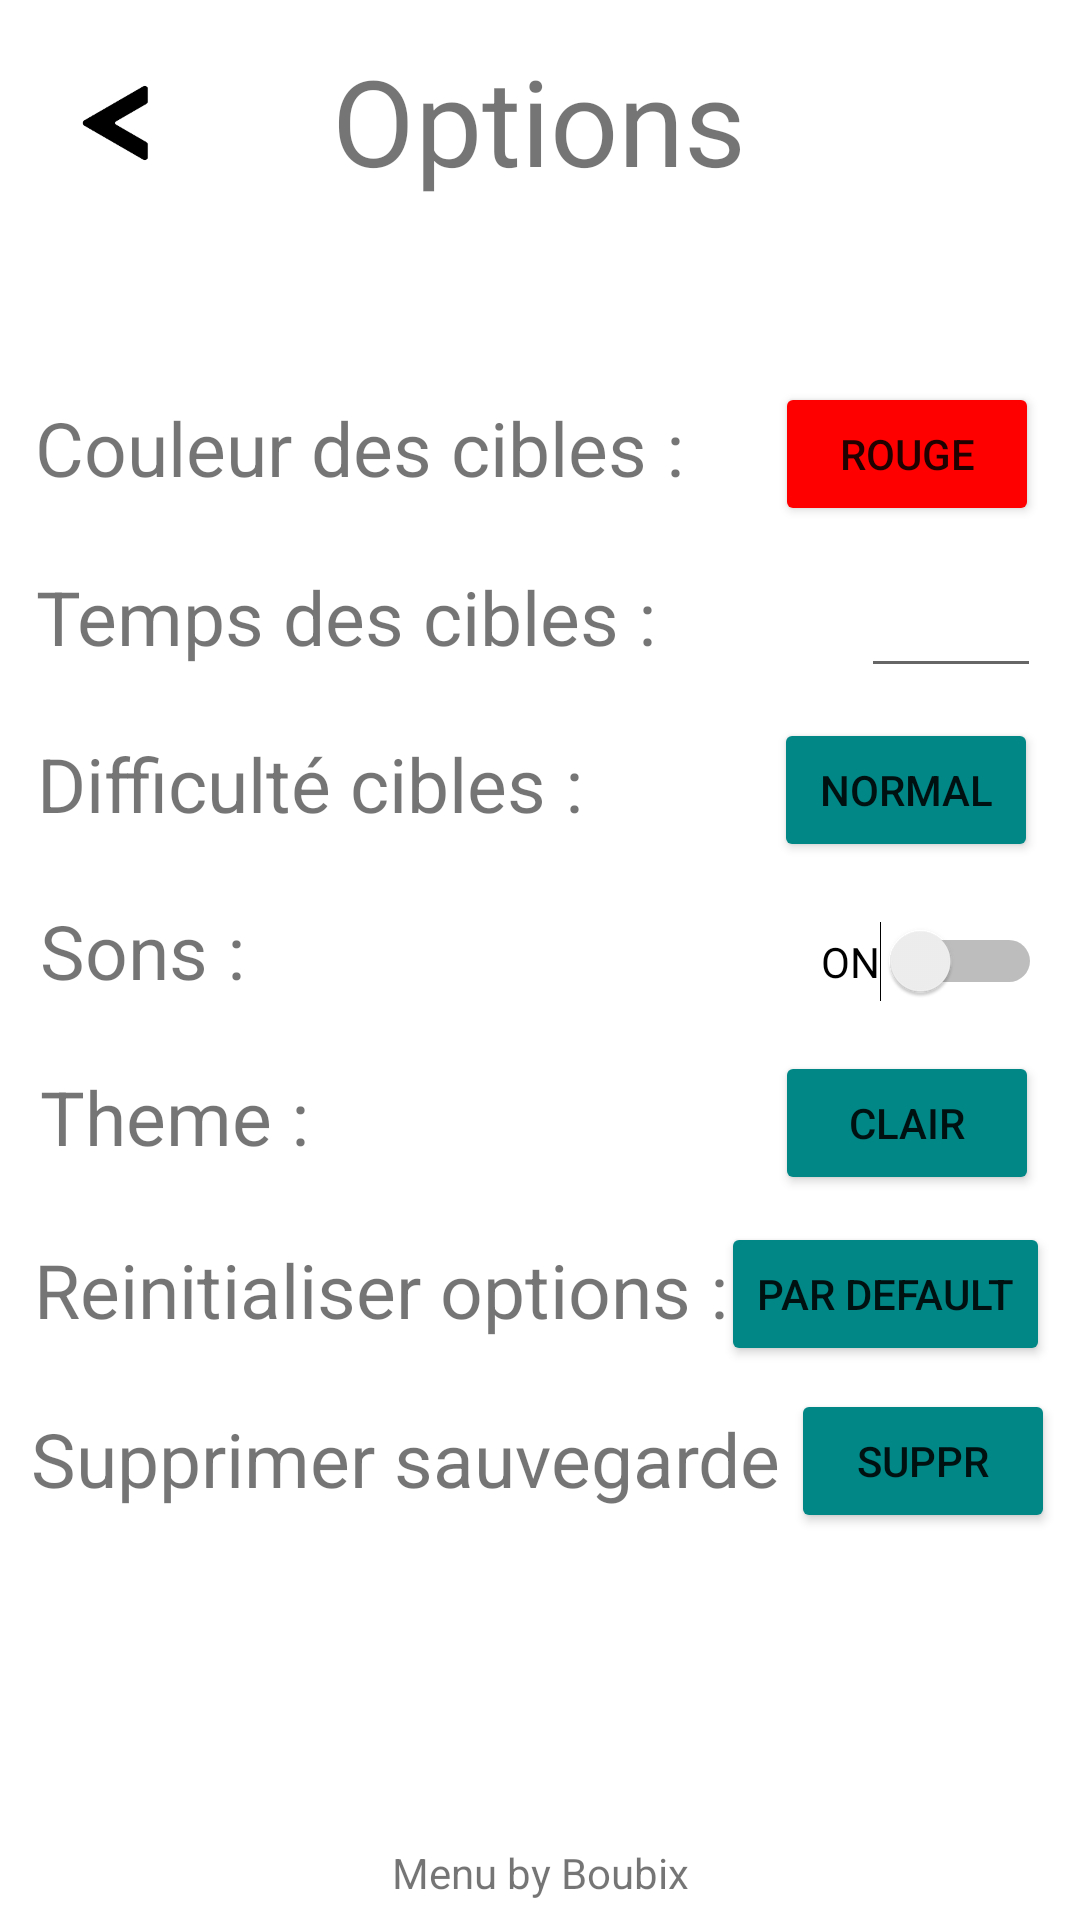

Icon bounding boxes for this 1080*1920 phone screenshot, format (x1, y1, x2, y2):
fleche retour: (82, 86, 148, 160)
